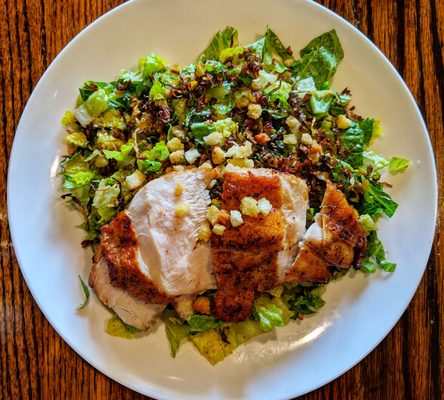curry: (290, 29, 344, 90)
